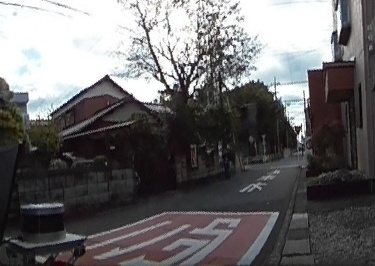person: (220, 147, 233, 178)
